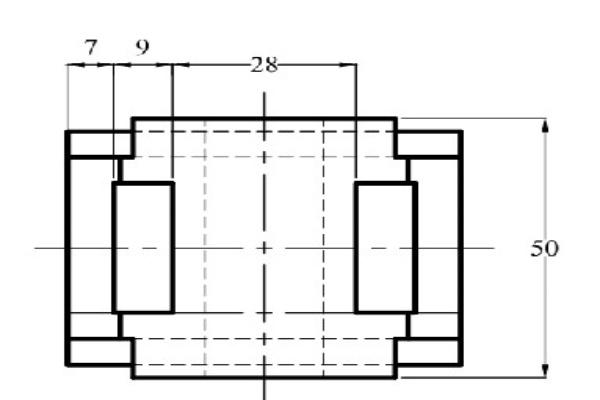dimensions: (245, 47, 282, 81), (78, 25, 108, 63), (528, 235, 563, 263), (126, 33, 158, 58)
